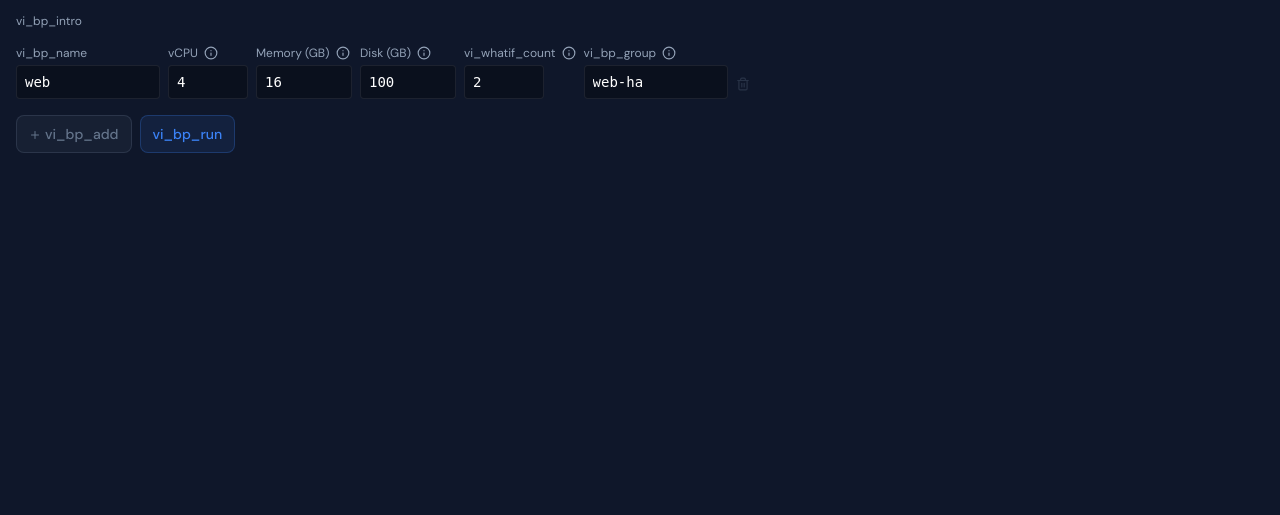
Test case: Toplu yerleşim › form: gövde profiller + kapsam ile gönderilir; (i) simgeleri var
The image size is (1280, 515).
Step 1. Replace the text in the field with test id "bp-group" with "g1" → (656, 82), box x1=584 y1=65 x2=728 y2=99
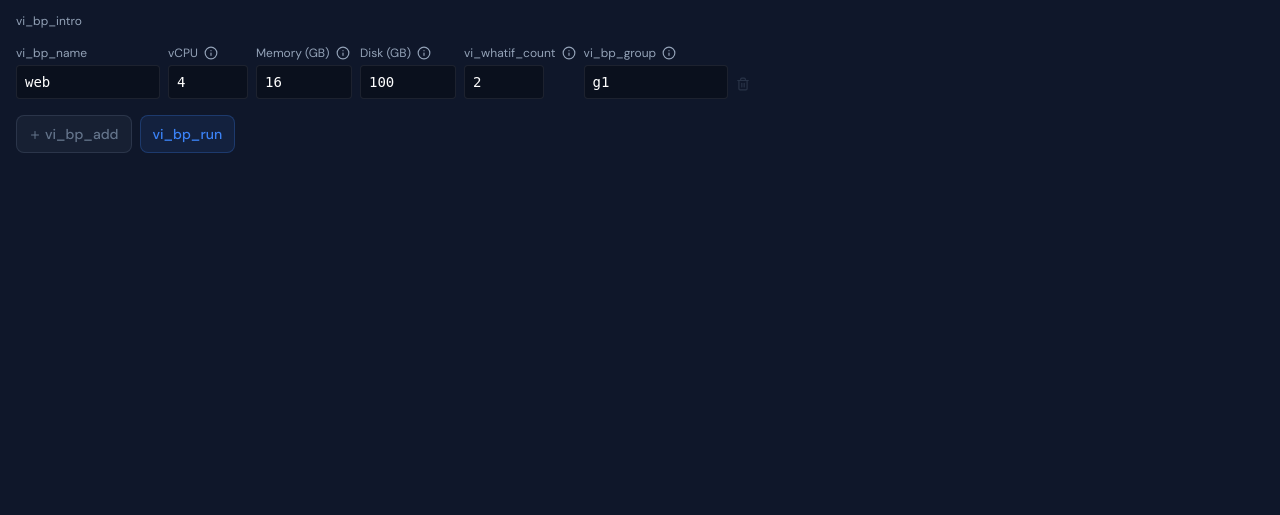
Step 2. Click the button "vi_bp_run" → (187, 134), box x1=140 y1=115 x2=235 y2=153
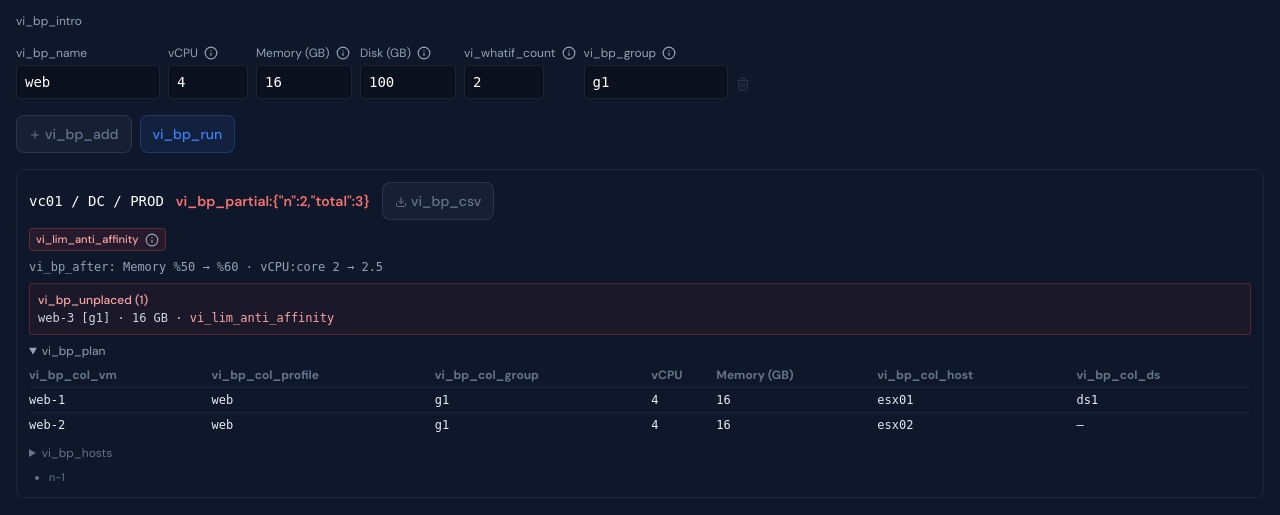
Expected: the element with test id "bp-result" is shown
